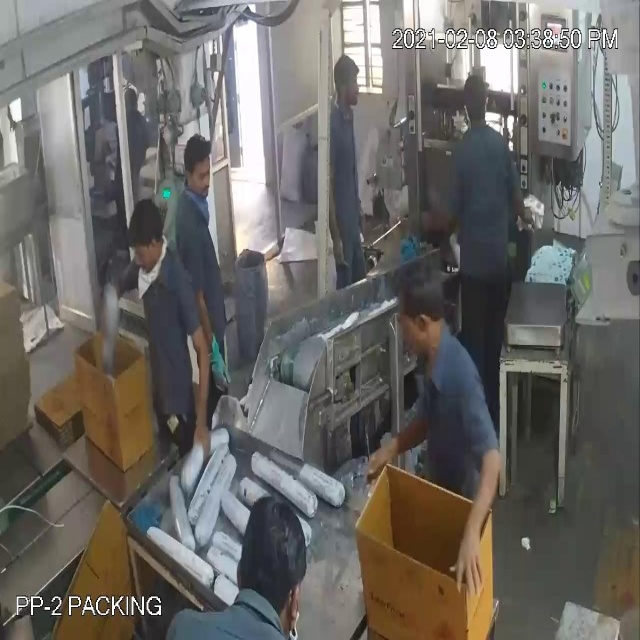Sin_guantes: (446, 436, 502, 599), (364, 398, 432, 480), (181, 315, 215, 452)
